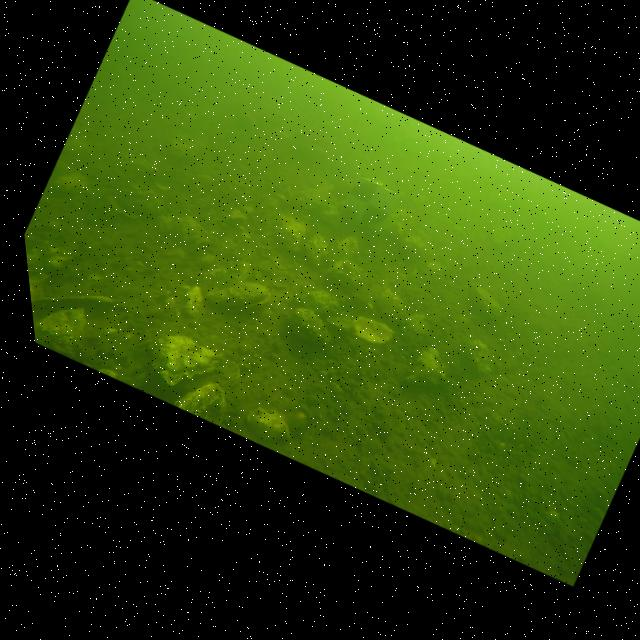Oyster-Closed: (152, 336, 223, 386), (175, 383, 226, 426), (246, 408, 307, 441), (159, 216, 214, 252), (201, 281, 271, 308), (404, 347, 446, 386), (287, 308, 330, 344), (470, 284, 502, 321), (297, 291, 340, 318), (275, 214, 306, 251), (325, 259, 361, 290), (374, 289, 406, 322), (167, 135, 203, 162), (401, 314, 430, 343), (467, 340, 491, 373), (304, 235, 328, 267), (330, 236, 359, 261)
Oyster-Indeterminate: (33, 307, 85, 363), (201, 259, 253, 288)
Oyster-Open: (31, 294, 116, 319), (352, 316, 394, 344)
